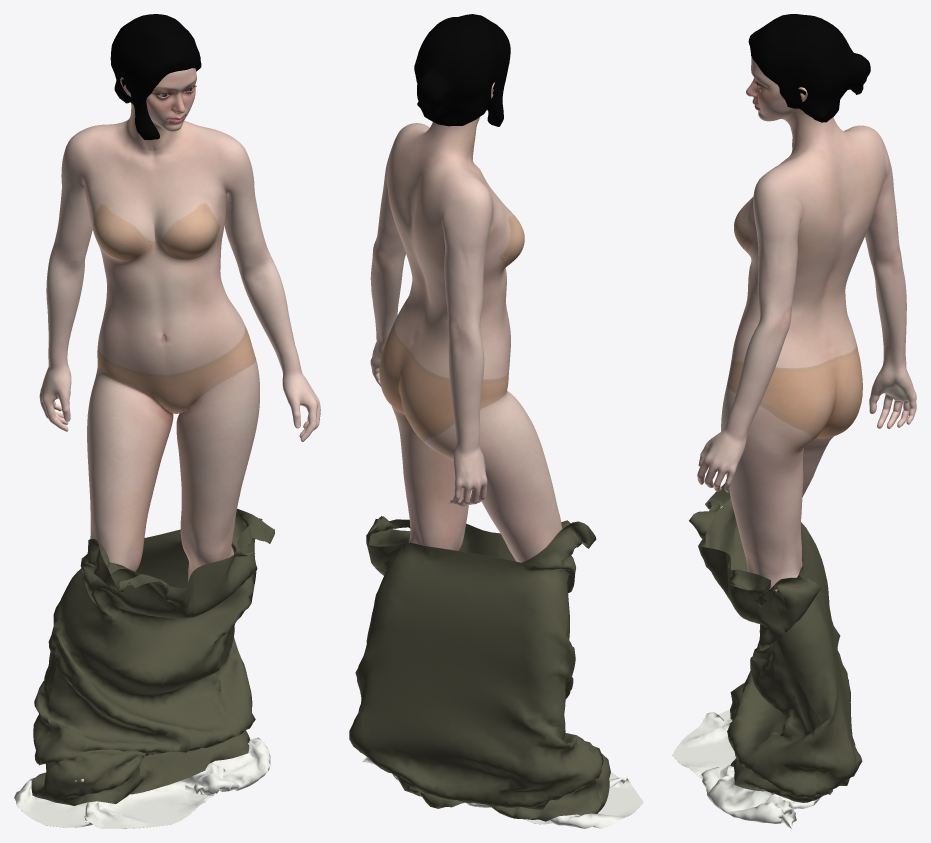
Rendered from Dynamic_2.obj.
The picture shows the model from 3 angles, left to right: view 1: azimuth 30°, elevation 25°; view 2: azimuth 150°, elevation 25°; view 3: azimuth 270°, elevation 25°; orthographic projection. The views are drawn at different scales.
Bounding box in the file's own units: 683 × 1798 × 524.
